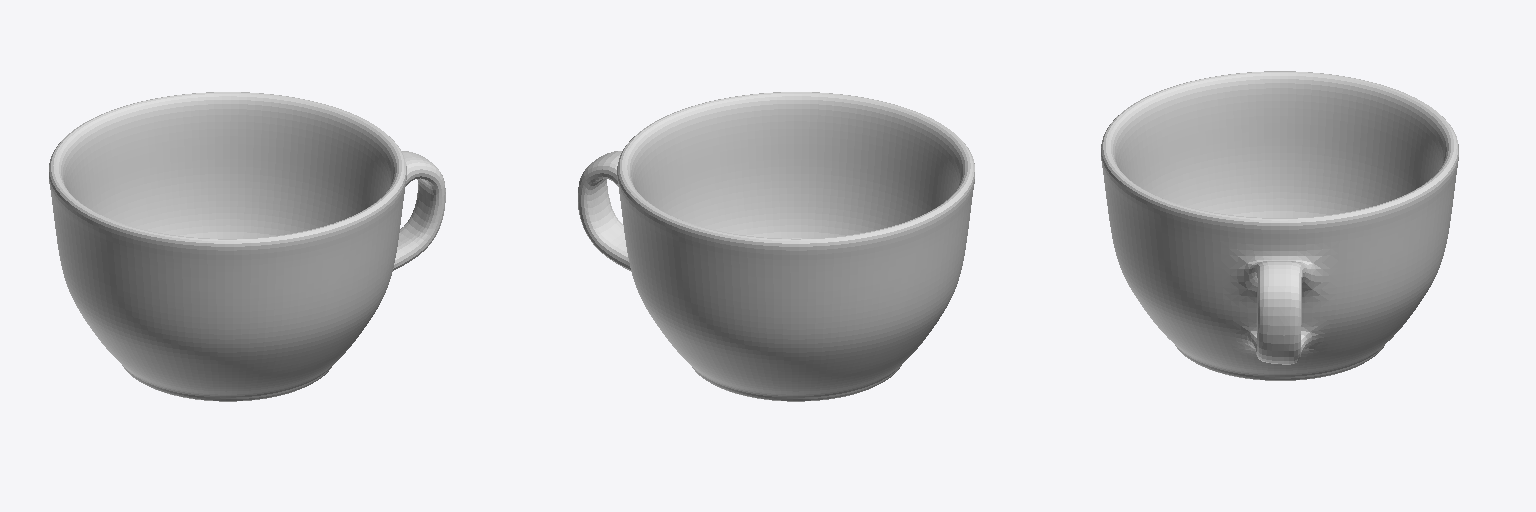
Rendered from coffeecup.obj.
3 renders of one model, left to right at view 1: azimuth 30°, elevation 25°; view 2: azimuth 150°, elevation 25°; view 3: azimuth 270°, elevation 25°, orthographic.
Parts seen in each view (by area): view 1: Circle; view 2: Circle; view 3: Circle.
Part boxes in pixels (x1,y1,x2,y2): Circle: (49,92,445,401); Circle: (578,92,974,401); Circle: (1101,71,1458,380).
Bounding box in the file's own units: 18.08 × 9.14 × 15.3.